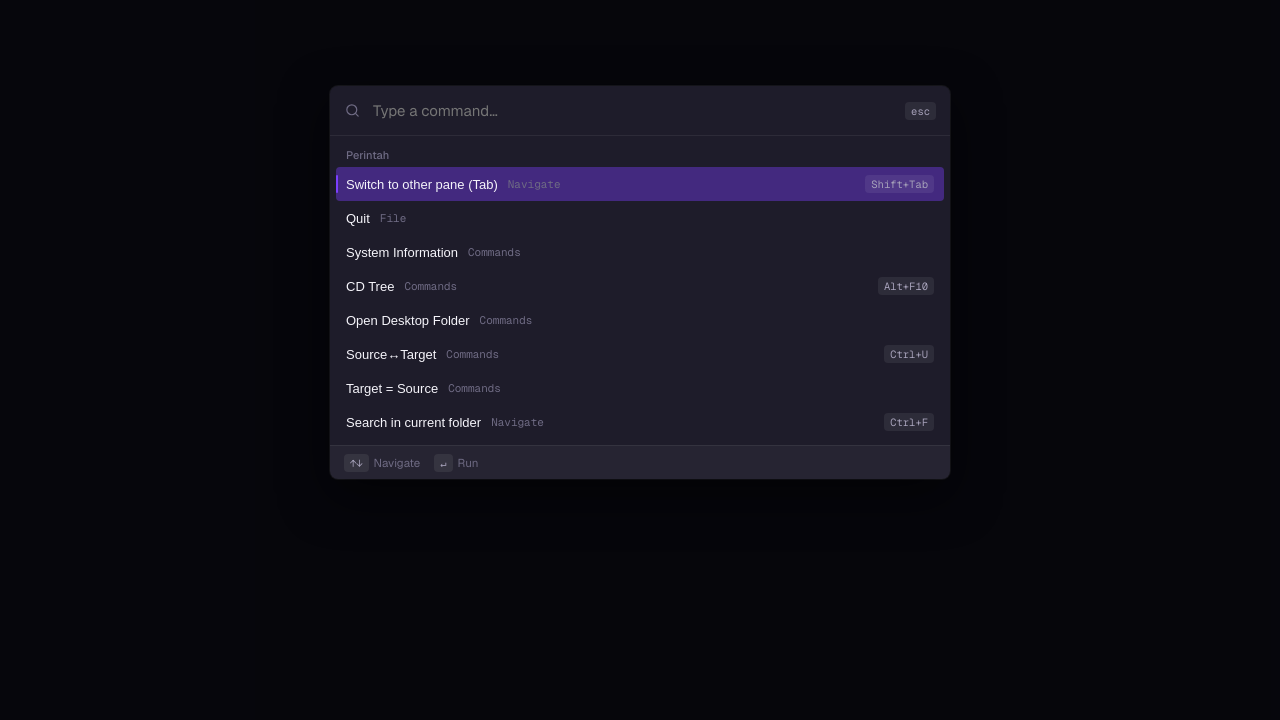
same-name disambiguation (FER-258) › shows the distinguishing parent segments only for colliding names
Type "repo" into the dropdown at (633, 111), box [371,100,895,122]
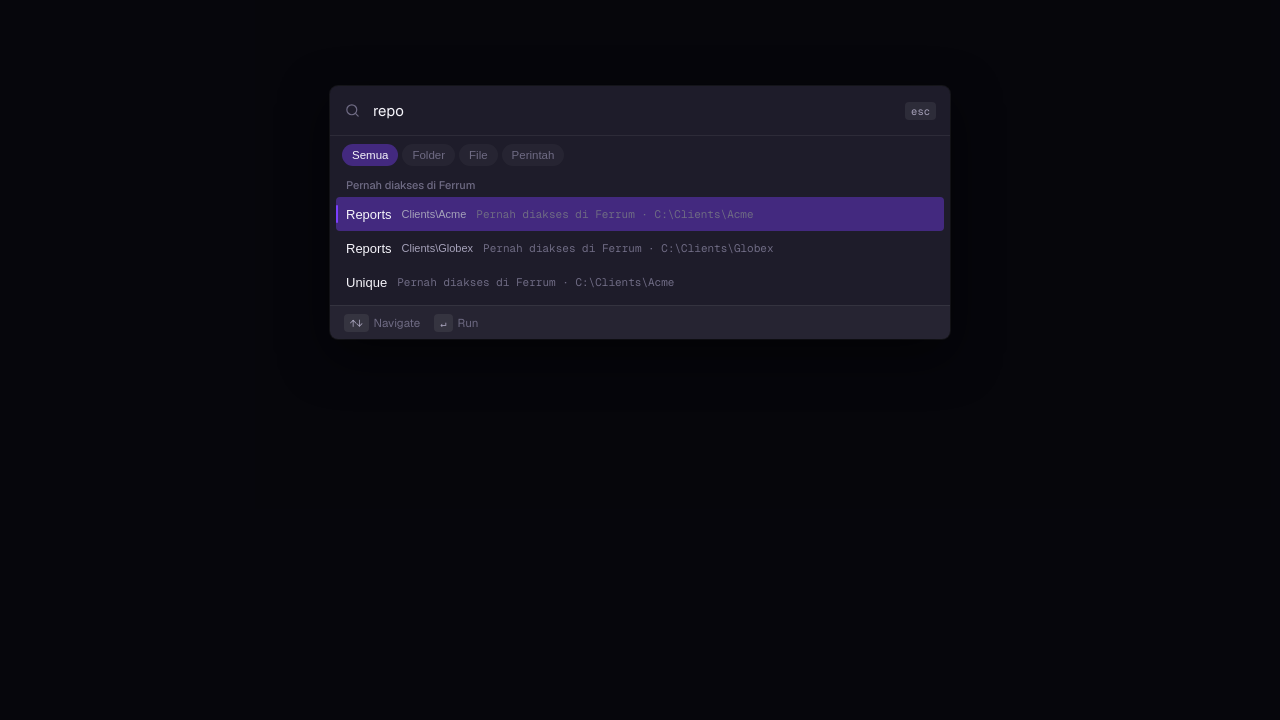
Expected: the number of options "Reports" is 2, [336,197,944,231]; [336,231,944,265]
Expected: the text with class "disamb" reads "Clients\\Acme", [402,208,466,220]
Expected: the text with class "disamb" reads "Clients\\Globex", [402,242,473,254]
